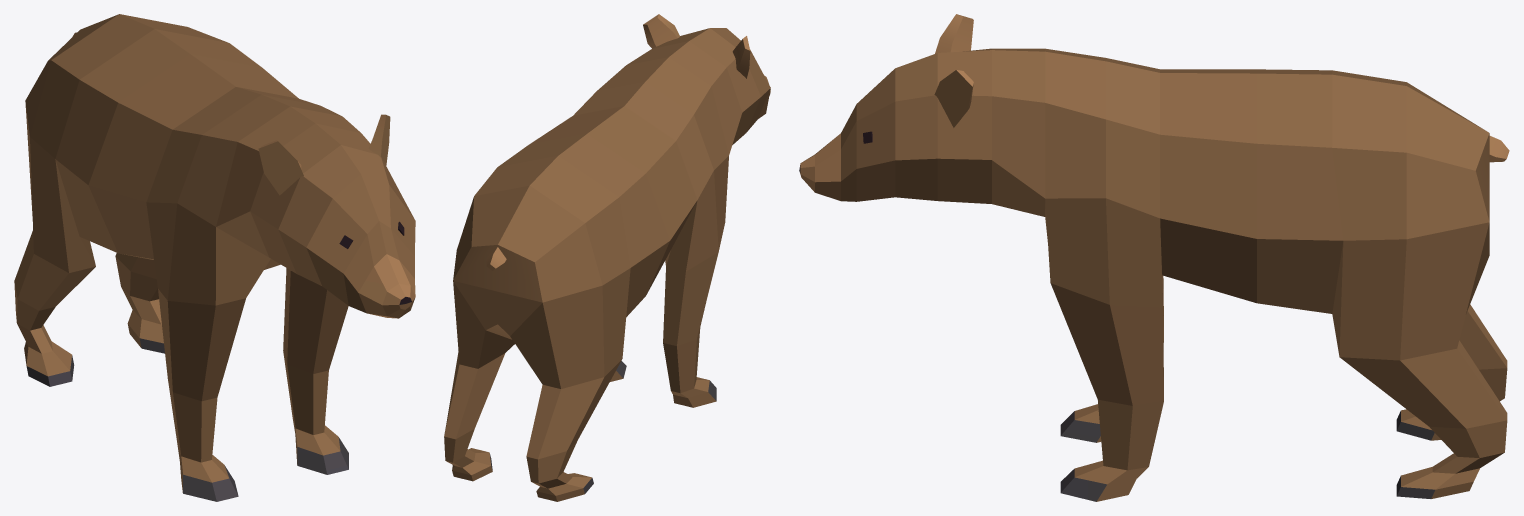
The model's file is prop_pz_bear.glb.
The picture shows the model from 3 angles, left to right: view 1: azimuth 30°, elevation 25°; view 2: azimuth 150°, elevation 25°; view 3: azimuth 270°, elevation 25°; orthographic projection. The views are drawn at different scales.
Visible parts, largest first — view 1: Geo_Bear; view 2: Geo_Bear; view 3: Geo_Bear.
Part boxes in pixels (bbox=[...]): Geo_Bear: bbox=[14, 14, 415, 501]; Geo_Bear: bbox=[444, 14, 770, 501]; Geo_Bear: bbox=[799, 14, 1509, 501].
Size of the model in its own units: 75.63 by 140 by 216.
1 material, 1 textured.
